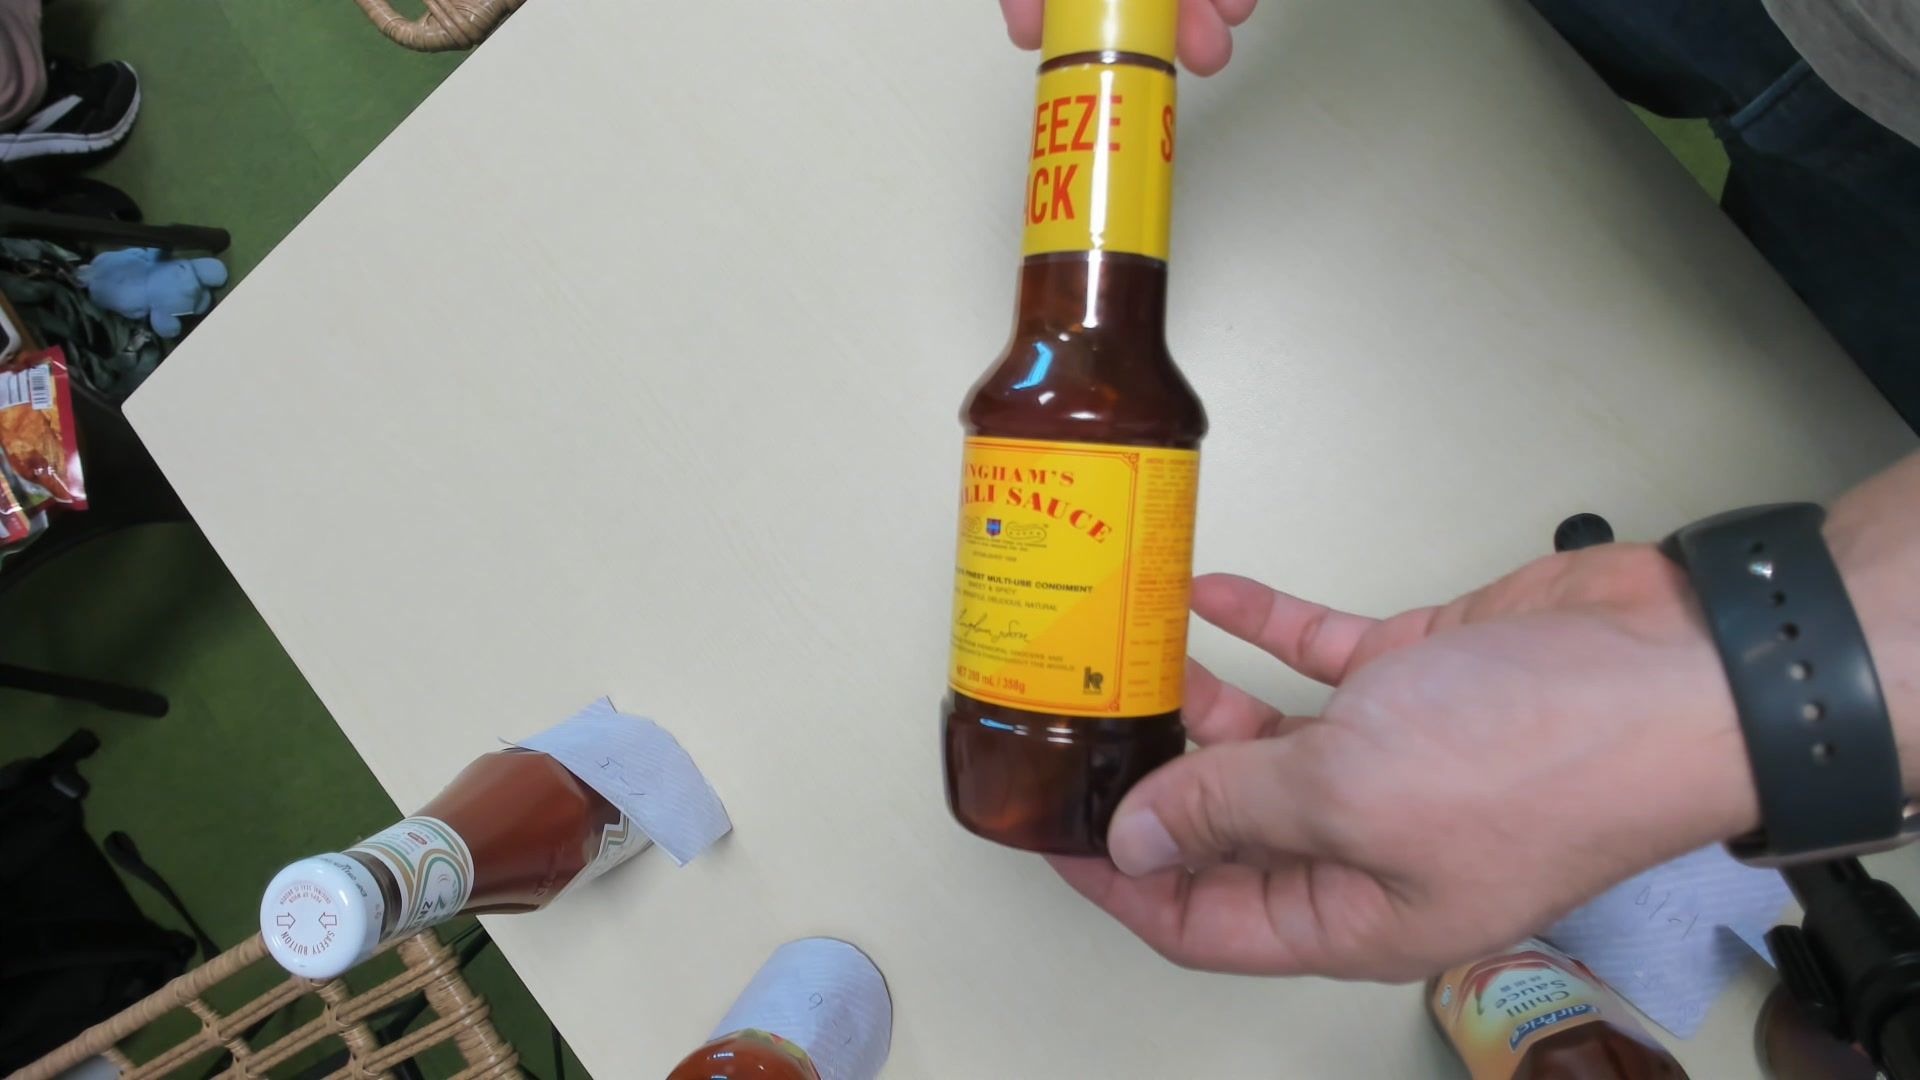KetchupChillSauce_300-399g_Halal_NonHealthy: (938, 3, 1207, 853)
